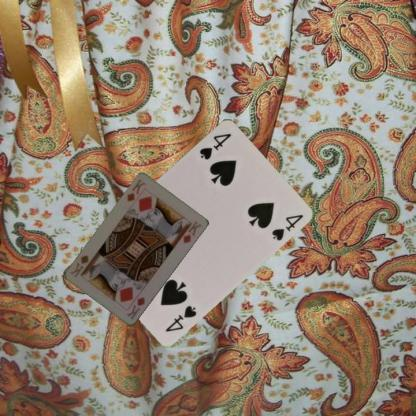4s: (196, 130, 233, 161), (162, 302, 198, 333)
Kd: (124, 177, 147, 203), (124, 294, 146, 320)
